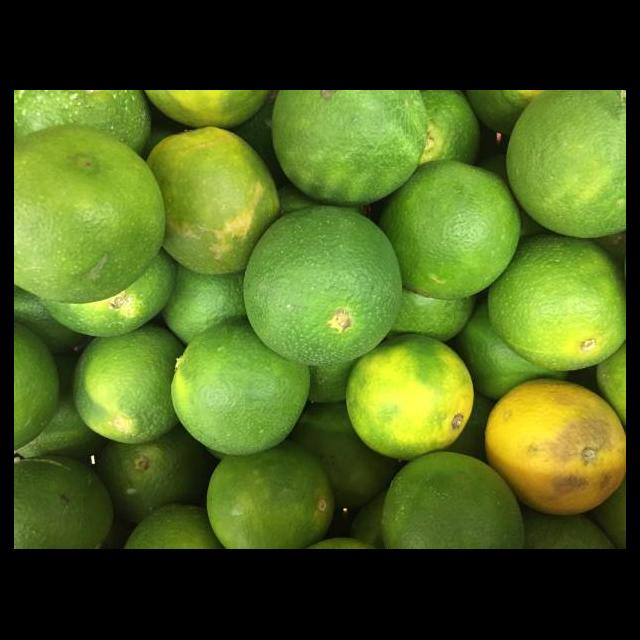lime: (144, 126, 291, 278), (484, 378, 626, 518), (378, 162, 520, 298)
